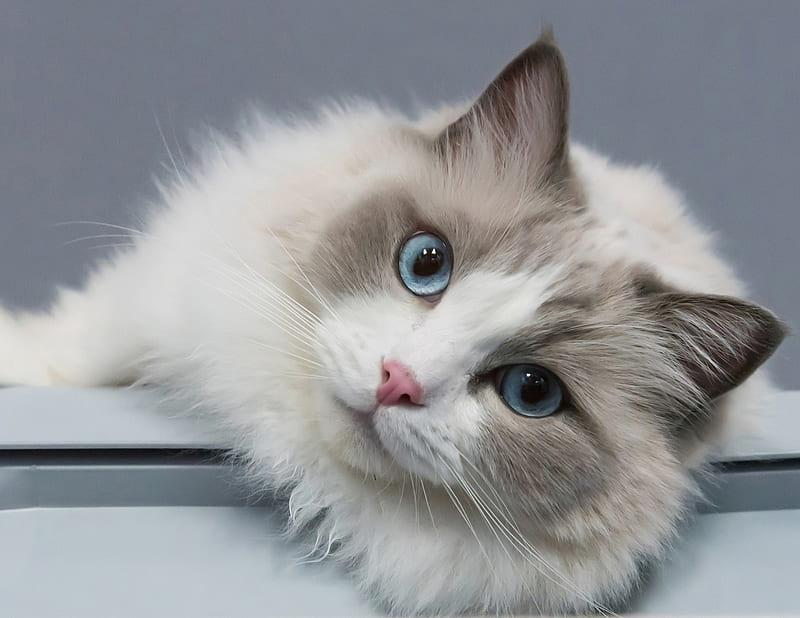ragdoll: (265, 29, 794, 540)
